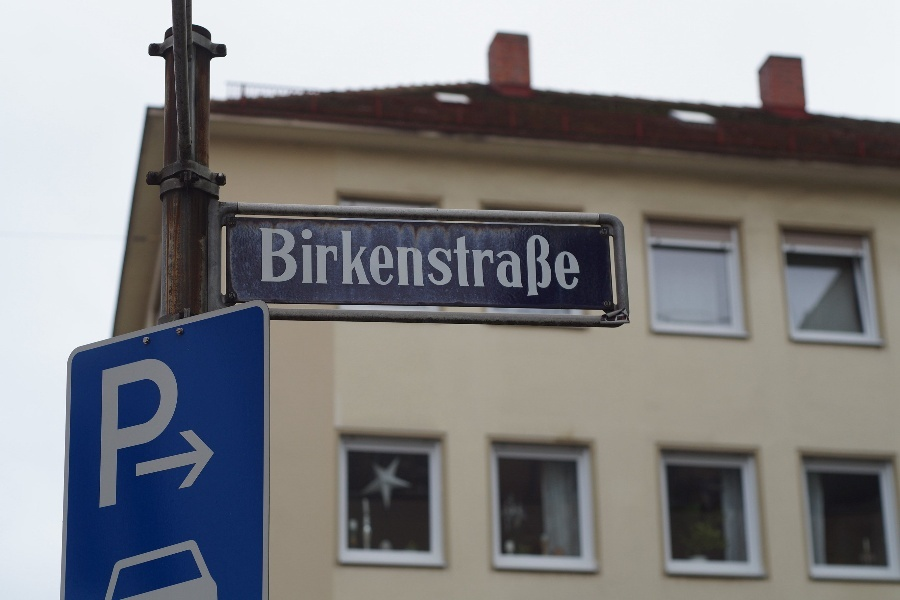text: (113, 354, 128, 510), (129, 354, 144, 510), (145, 354, 160, 510), (161, 354, 176, 510), (101, 354, 112, 510), (273, 225, 288, 300), (289, 225, 304, 300), (305, 225, 320, 300), (321, 225, 336, 300), (337, 225, 352, 300), (353, 225, 368, 300), (369, 225, 384, 300), (385, 225, 400, 300), (401, 225, 416, 300), (417, 225, 432, 300), (433, 225, 448, 300), (449, 225, 464, 300), (465, 225, 480, 300), (481, 225, 496, 300), (497, 225, 512, 300), (513, 225, 528, 300), (529, 225, 544, 300), (545, 225, 560, 300), (561, 225, 576, 300), (259, 225, 272, 300), (577, 225, 583, 300), (177, 354, 179, 510)
